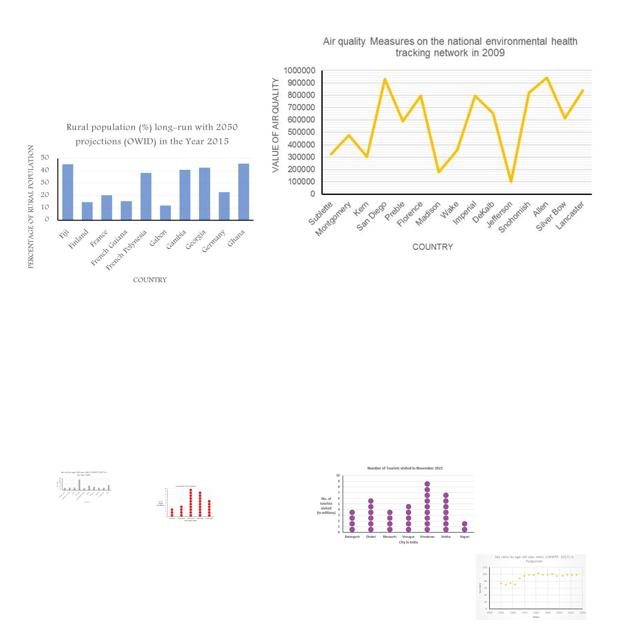Graph: (266, 32, 598, 258), (21, 118, 257, 290), (315, 465, 475, 546), (476, 554, 586, 620), (155, 484, 215, 523), (55, 470, 112, 504)
